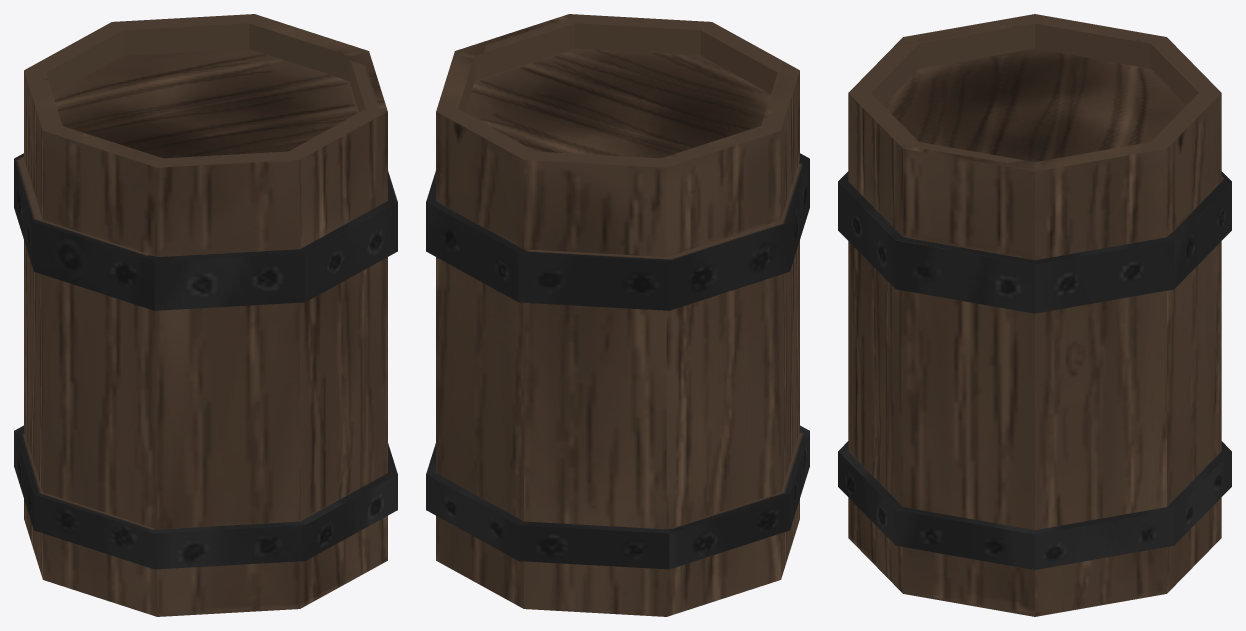
Rendered from Furniture.glb.
The picture shows the model from 3 angles, left to right: view 1: azimuth 30°, elevation 25°; view 2: azimuth 150°, elevation 25°; view 3: azimuth 270°, elevation 25°; orthographic projection.
Visible parts, largest first — view 1: Barrel; view 2: Barrel; view 3: Barrel.
Boxes of the visible parts, left/top/right/bottom form: Barrel: left=14, top=14, right=397, bottom=616; Barrel: left=426, top=14, right=809, bottom=616; Barrel: left=838, top=14, right=1231, bottom=616.
Bounding box in the file's own units: 2.07 × 2.58 × 2.07.
1 material, 1 textured.
